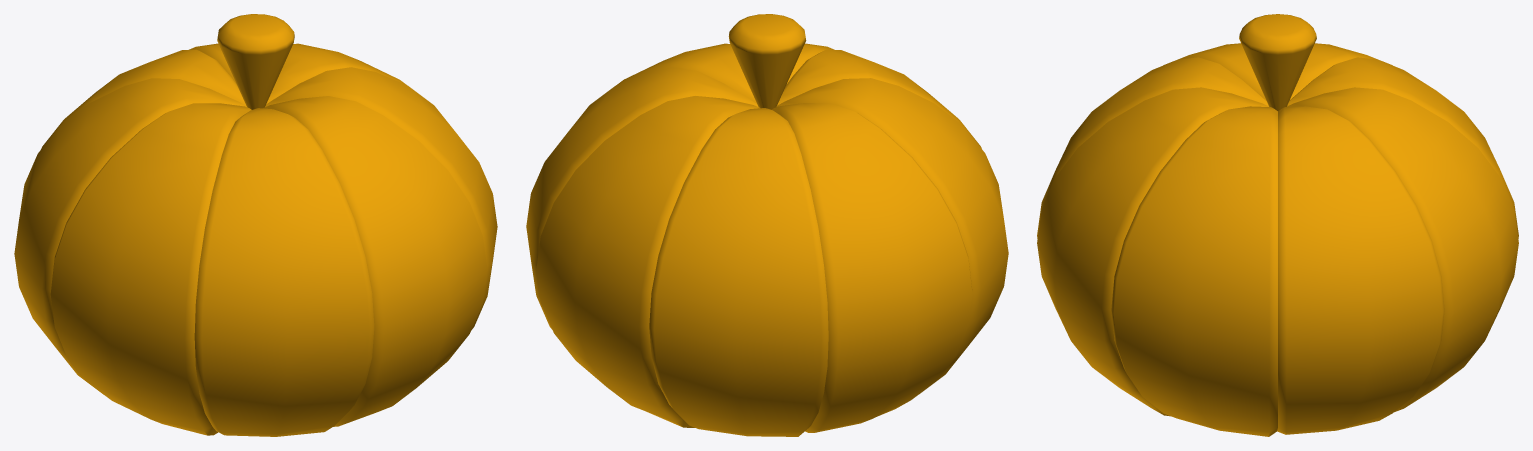
Rendered from SM_pumpkin.fbx.
3 views of the same model, side by side, from view 1: azimuth 30°, elevation 25°; view 2: azimuth 150°, elevation 25°; view 3: azimuth 270°, elevation 25° (orthographic).
Parts seen in each view (by area): view 1: pumpkin1; view 2: pumpkin1; view 3: pumpkin1.
Boxes of the visible parts, x1=… form: pumpkin1: x1=14, y1=14, x2=497, y2=436; pumpkin1: x1=526, y1=14, x2=1008, y2=436; pumpkin1: x1=1037, y1=14, x2=1518, y2=436.
Size of the model in its own units: 25.23 by 20.68 by 25.23.
